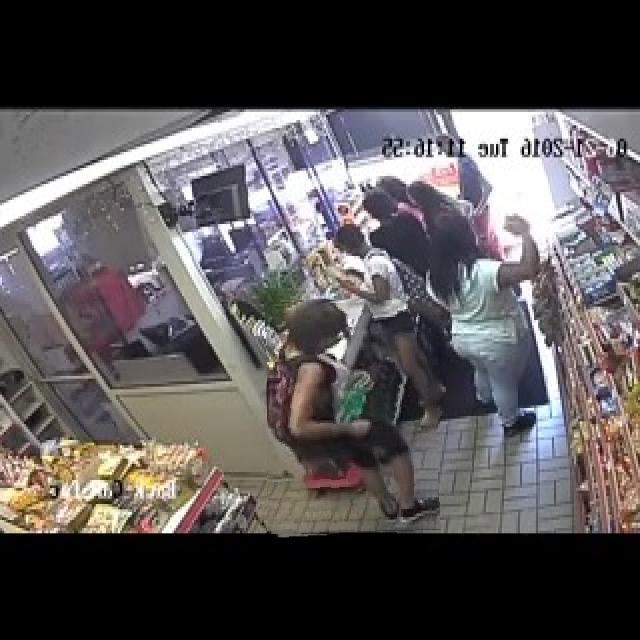Shoplifting: (267, 301, 438, 537)
